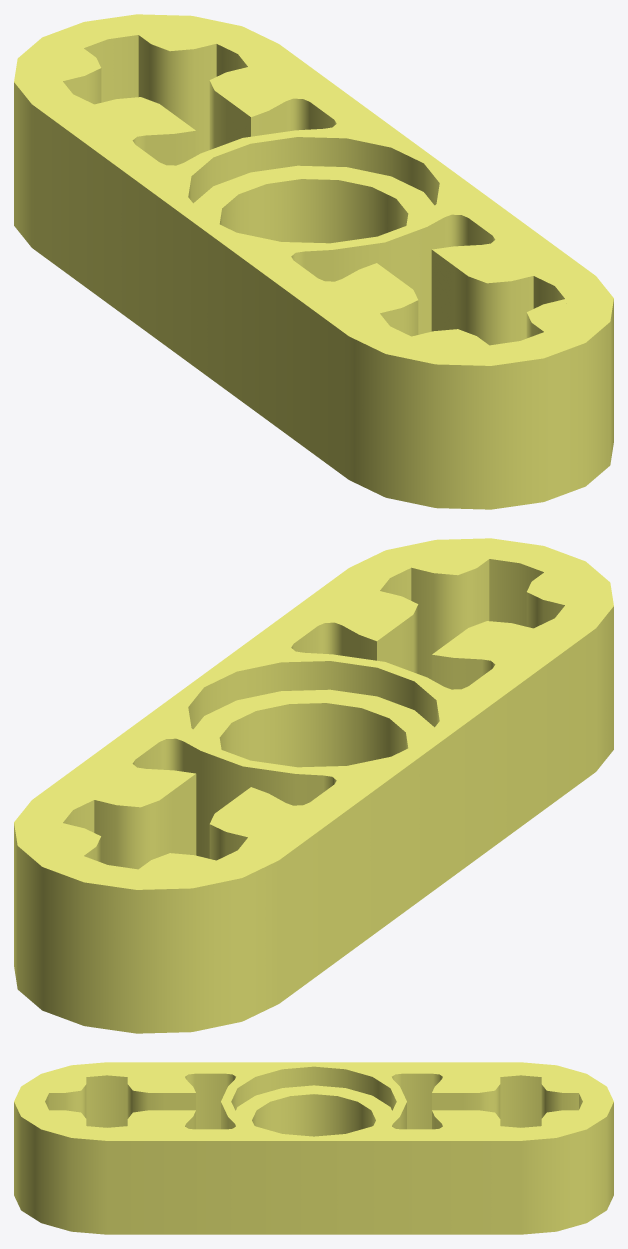
3 views of the same model, one above another, from view 1: azimuth 30°, elevation 25°; view 2: azimuth 150°, elevation 25°; view 3: azimuth 270°, elevation 25° (orthographic). The views are drawn at different scales.
Parts seen in each view (by area): view 1: 6632.dat; view 2: 6632.dat; view 3: 6632.dat.
Boxes of the visible parts, <box> form: 6632.dat: <box>14,14,613,509</box>; 6632.dat: <box>14,538,613,1033</box>; 6632.dat: <box>14,1062,613,1234</box>.
Bounding box in the file's own units: 0.0072 × 0.004 × 0.0232.
